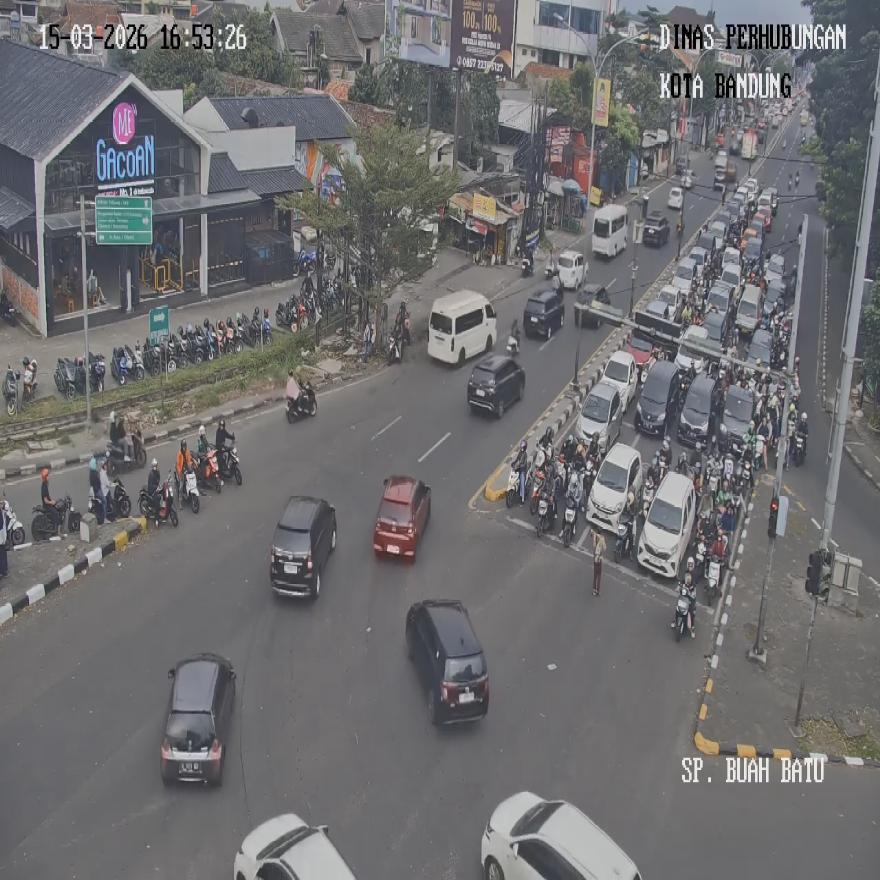Mobil: (479, 790, 643, 878), (405, 598, 489, 724), (159, 652, 236, 784), (233, 813, 356, 880), (269, 494, 336, 596), (636, 469, 696, 578), (585, 442, 643, 536), (426, 289, 498, 364), (372, 475, 430, 561), (577, 378, 623, 460), (467, 352, 525, 417), (634, 358, 680, 438), (601, 350, 637, 416), (523, 287, 564, 339)
Motor: (140, 468, 178, 526), (31, 493, 74, 540), (88, 479, 131, 521), (107, 428, 146, 473), (671, 583, 695, 639), (111, 343, 143, 384), (215, 438, 242, 485), (286, 382, 317, 422), (0, 501, 25, 549), (198, 446, 221, 493), (613, 512, 634, 562), (53, 358, 78, 400), (704, 552, 724, 602), (506, 460, 527, 507), (535, 488, 555, 536), (181, 464, 200, 514), (560, 498, 578, 546), (84, 352, 104, 395), (789, 424, 808, 466), (592, 529, 604, 595), (4, 364, 18, 416), (21, 358, 37, 403), (0, 290, 19, 325), (641, 477, 656, 517), (387, 331, 402, 363), (522, 253, 533, 277)
